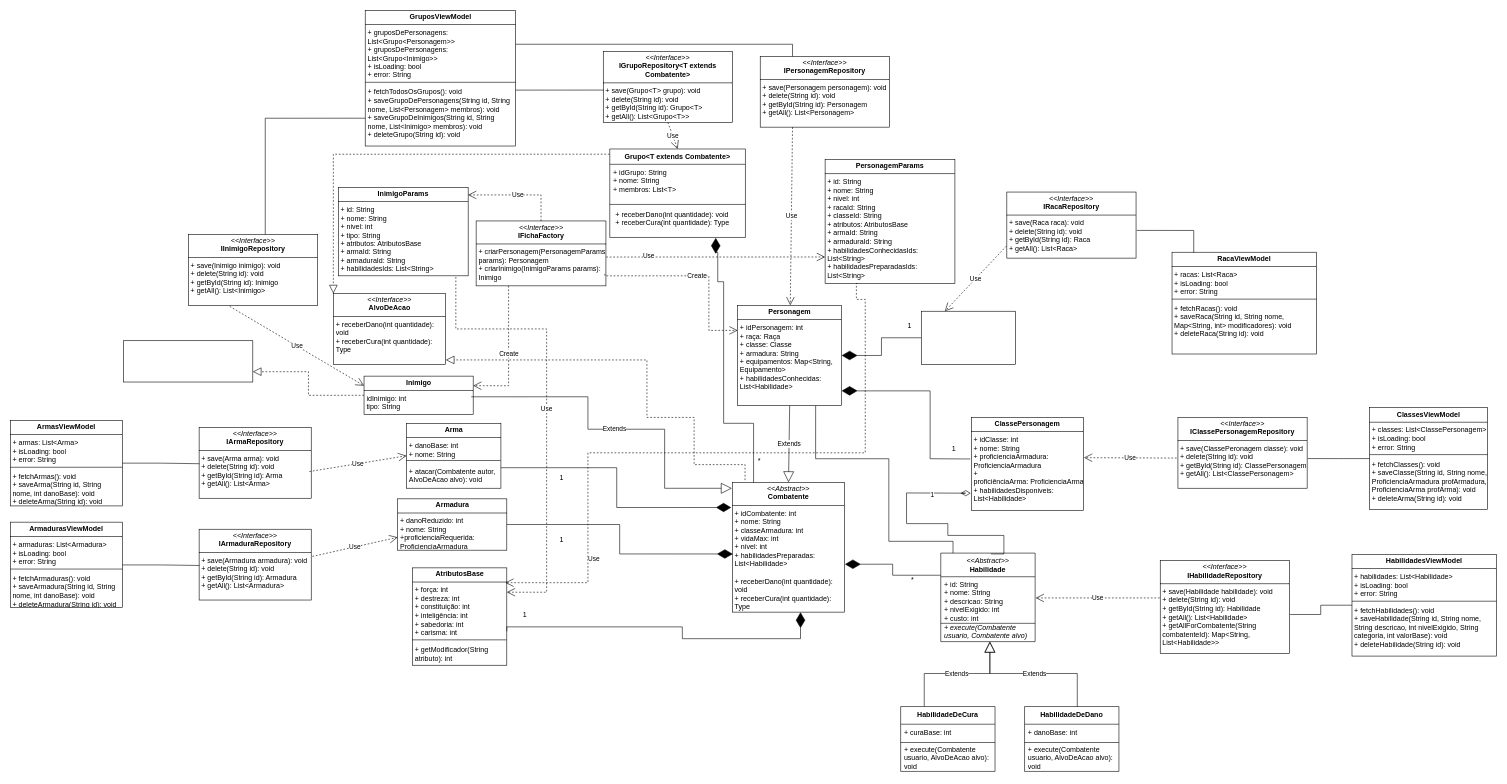
Some shapes in this 1507 by 784 pixel diagram are drawn without their labels. The shapes that lost their labels are listed below. From the top down, each one's centre as x and y in pixels, then its label:
At point 968,337: "Raca + idRaca: int + nome: String + modificadoresDeAtributo: Map<String, int>".
At point 188,361: "<<Interface>> IPrototype<T> + clone(): void".
